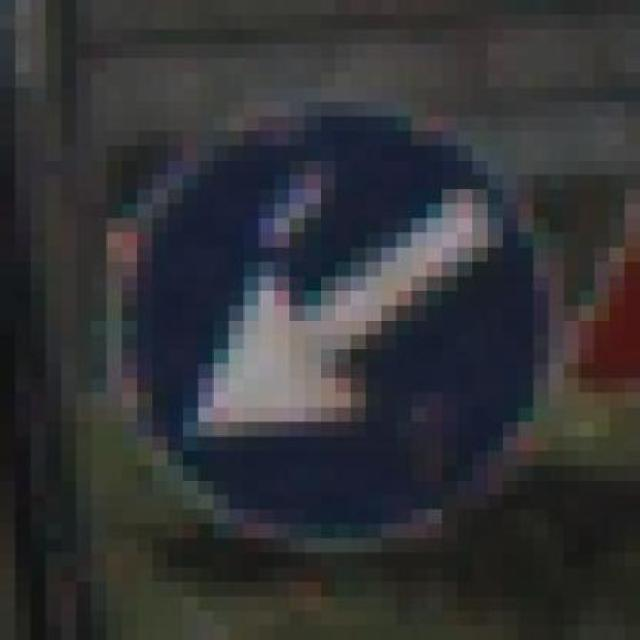Keep-Left: (76, 58, 595, 612)
